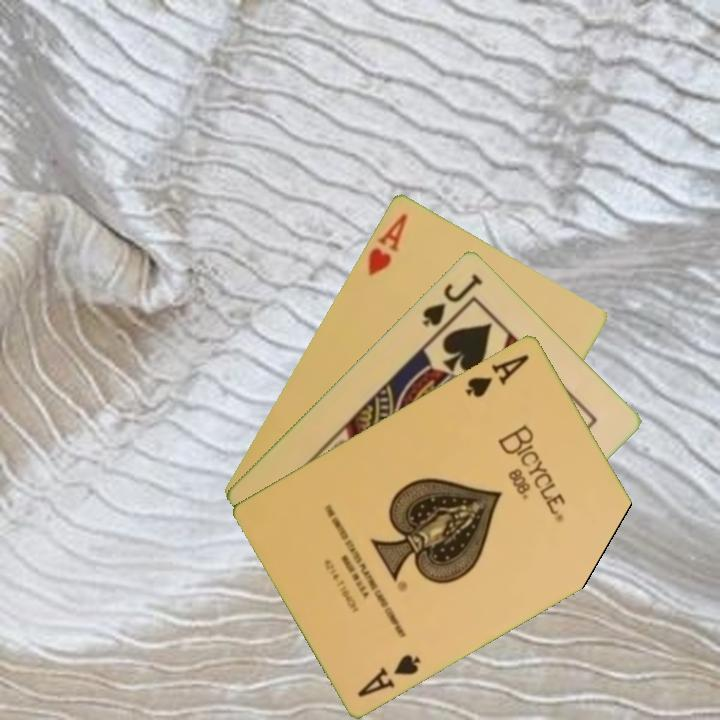Ah: (364, 210, 411, 278)
As: (461, 350, 533, 400), (354, 650, 424, 700)
Js: (418, 269, 486, 328)
